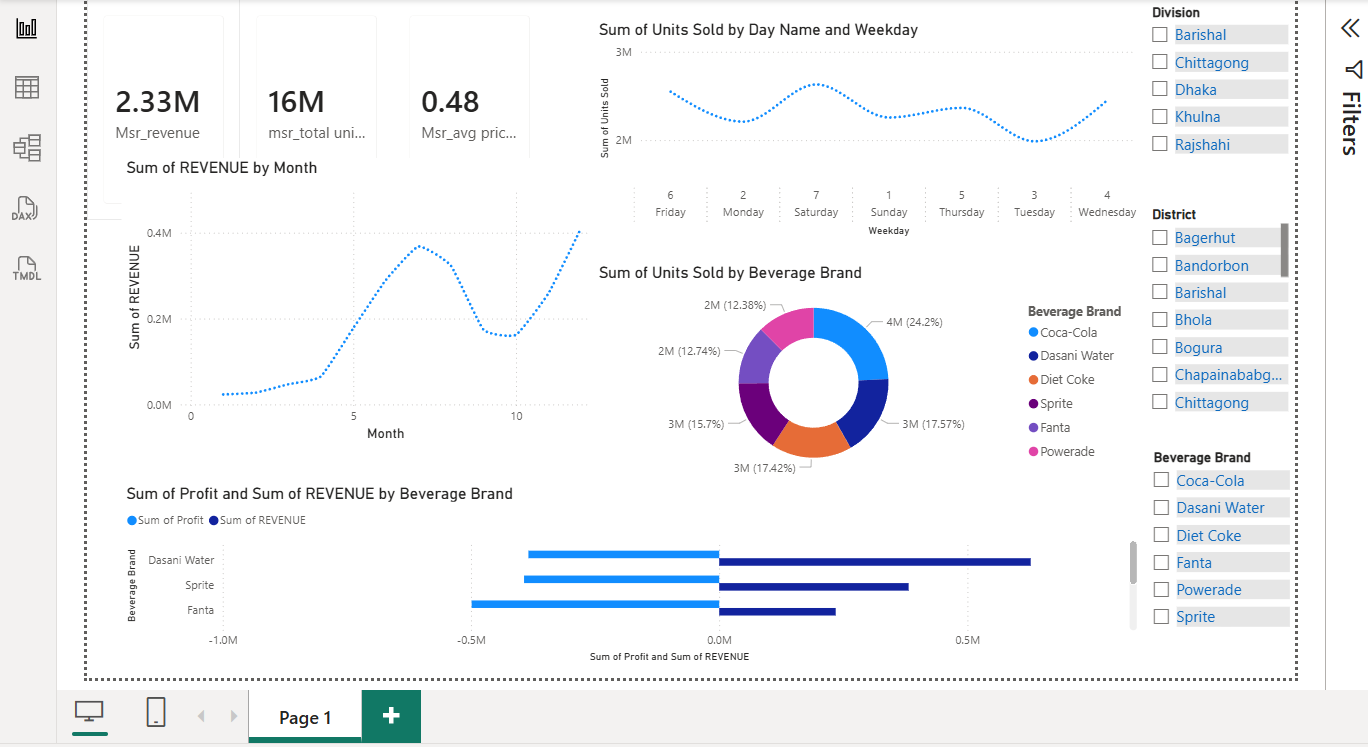

Layout of this report page (visuals, bound fields, positions):
{"tool":"powerbi","page":{"name":"Page 1","canvas":[1280,720],"ordinal":0},"visuals":[{"type":"slicer","fields":{"Values":["Data.Division"]},"box":[1116.9,0,162.5,279.7],"z":0},{"type":"slicer","fields":{"Values":["Data.District"]},"box":[1116,214,162,228],"z":1000},{"type":"slicer","fields":{"Values":["Cost.Beverage Brand"]},"box":[1118,472,162,234],"z":2000},{"type":"cardVisual","fields":{"Data":["Data.Msr_revenue"]},"box":[0,0,162,234],"z":3000},{"type":"cardVisual","fields":{"Data":["Data.msr_total unit sold"]},"box":[162,0,162,234],"z":4000},{"type":"cardVisual","fields":{"Data":["Data.Msr_avg price per unit"]},"box":[324,0,162,234],"z":5000},{"type":"lineChart","fields":{"Category":["Data.Month"],"Y":["Sum(Data.REVENUE)"]},"box":[36,168,502,304],"z":6000},{"type":"lineChart","fields":{"Category":["Dates.Day Name","Dates.Weekday"],"Y":["Sum(Data.Units Sold)"]},"box":[538,22,580,234],"z":7000},{"type":"donutChart","fields":{"Category":["Data.Beverage Brand"],"Y":["Sum(Data.Units Sold)"]},"box":[538,280,580,234],"z":8000},{"type":"clusteredBarChart","fields":{"Category":["Cost.Beverage Brand"],"Y":["Sum(Data.Profit)","Sum(Data.REVENUE)"]},"box":[36.7,513.3,1081.7,193.3],"z":9000}]}

Visuals, with their boxes on the page's 1280x720 design canvas (x1, y1, x2, y2). These are canvas units, not pixel positions in the 1368x747 screenshot, which may show the page scaled, cropped or inside an application window:
slicer - Data.Division: select_region(1117, 0, 1279, 280)
slicer - Data.District: select_region(1116, 214, 1278, 442)
slicer - Cost.Beverage Brand: select_region(1118, 472, 1280, 706)
cardVisual - Data.Msr_revenue: select_region(0, 0, 162, 234)
cardVisual - Data.msr_total unit sold: select_region(162, 0, 324, 234)
cardVisual - Data.Msr_avg price per unit: select_region(324, 0, 486, 234)
lineChart - Data.Month x Sum(Data.REVENUE): select_region(36, 168, 538, 472)
lineChart - Dates.Day Name x Dates.Weekday: select_region(538, 22, 1118, 256)
donutChart - Data.Beverage Brand x Sum(Data.Units Sold): select_region(538, 280, 1118, 514)
clusteredBarChart - Cost.Beverage Brand x Sum(Data.Profit): select_region(37, 513, 1118, 707)
